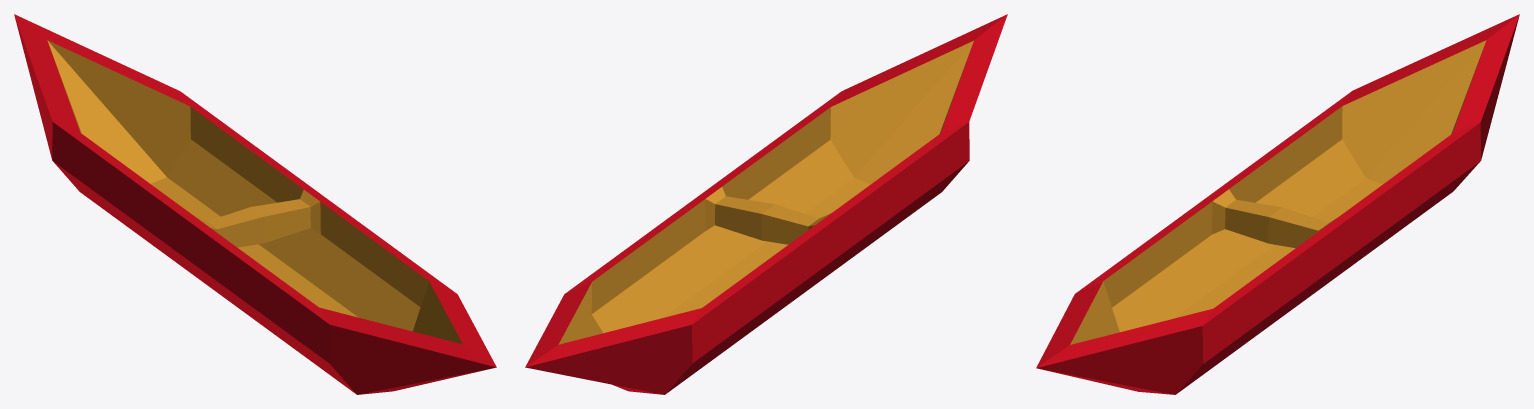
File: canoe.fbx
3 renders of one model, left to right at view 1: azimuth 30°, elevation 25°; view 2: azimuth 150°, elevation 25°; view 3: azimuth 330°, elevation 25°, orthographic.
Visible parts, largest first — view 1: Cube.001; view 2: Cube.001; view 3: Cube.001.
Boxes of the visible parts, x1,y1,x2,y2 form: Cube.001: (14, 14, 496, 394); Cube.001: (525, 14, 1007, 394); Cube.001: (1036, 14, 1519, 394).
Bounding box in the file's own units: 250 × 184 × 1624.
